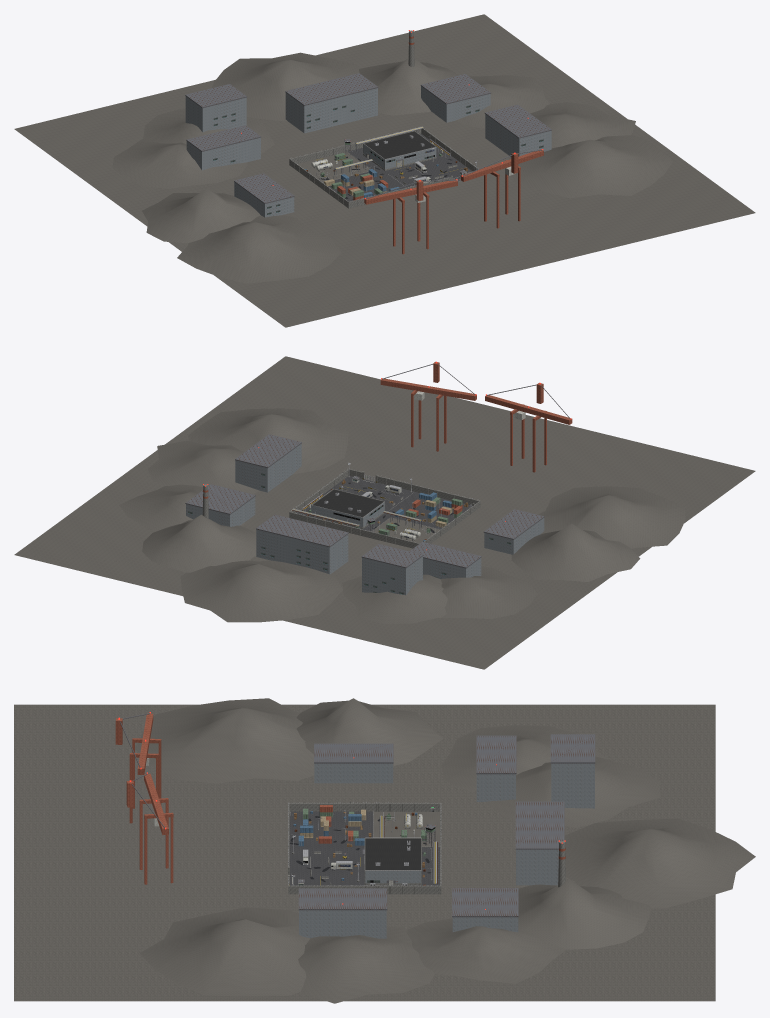
Rendered from depot.glb.
3 views of the same model, one above another, from view 1: azimuth 30°, elevation 25°; view 2: azimuth 150°, elevation 25°; view 3: azimuth 270°, elevation 25° (orthographic). The views are drawn at different scales.
Visible parts, largest first — view 1: SM_Ground_Ground_Outer_S_01, SM_Ground_Ground_Outer_N_01, SM_Far_Hill_3_02, SM_Far_Hill_3_03, SM_Far_Hill_3_01, SM_Far_Hill_2_02, SM_Far_FarBlock_1_01, SM_Far_Hill_1_02, SM_Far_Hill_2_01, SM_Ground_Ground_Outer_W_01, SM_Far_Hill_0_01, SM_Ground_Ground_Outer_E_01 (+13 smaller); view 2: SM_Ground_Ground_Outer_S_01, SM_Ground_Ground_Outer_N_01, SM_Far_Hill_3_01, SM_Far_Hill_3_02, SM_Far_Hill_3_03, SM_Far_Hill_2_02, SM_Far_Hill_2_01, SM_Far_FarBlock_1_01, SM_Far_Hill_0_01, SM_Far_Hill_1_02, SM_Far_Hill_0_02, SM_Ground_Ground_Outer_W_01 (+13 smaller); view 3: SM_Ground_Ground_Outer_S_01, SM_Ground_Ground_Outer_N_01, SM_Far_Hill_3_01, SM_Far_Hill_3_02, SM_Far_Hill_3_03, SM_Far_Hill_0_01, SM_Far_Hill_2_01, SM_Far_Hill_1_01, SM_Far_Hill_2_02, SM_Ground_Ground_Outer_W_01, SM_Far_Hill_0_02, SM_Ground_Ground_Asphalt_S_01 (+14 smaller).
Boxes of the visible parts, x1,y1,x2,y2 form: SM_Ground_Ground_Outer_S_01: [179, 135, 755, 327]; SM_Ground_Ground_Outer_N_01: [14, 14, 590, 206]; SM_Far_Hill_3_02: [177, 215, 341, 283]; SM_Far_Hill_3_03: [509, 135, 673, 198]; SM_Far_Hill_3_01: [212, 52, 361, 120]; SM_Far_Hill_2_02: [142, 188, 260, 243]; SM_Far_FarBlock_1_01: [285, 73, 378, 133]; SM_Far_Hill_1_02: [112, 139, 247, 188]; SM_Far_Hill_2_01: [359, 58, 458, 115]; SM_Ground_Ground_Outer_W_01: [121, 165, 347, 249]; SM_Far_Hill_0_01: [530, 102, 635, 148]; SM_Ground_Ground_Outer_E_01: [428, 92, 648, 174]; SM_Ground_Ground_Outer_S_01: [179, 356, 755, 548]; SM_Ground_Ground_Outer_N_01: [14, 477, 590, 669]; SM_Far_Hill_3_01: [180, 560, 342, 622]; SM_Far_Hill_3_02: [538, 486, 685, 548]; SM_Far_Hill_3_03: [188, 408, 348, 474]; SM_Far_Hill_2_02: [511, 524, 640, 581]; SM_Far_Hill_2_01: [142, 514, 256, 572]; SM_Far_FarBlock_1_01: [256, 514, 348, 574]; SM_Far_Hill_0_01: [148, 441, 259, 494]; SM_Far_Hill_1_02: [440, 566, 537, 618]; SM_Far_Hill_0_02: [342, 574, 447, 623]; SM_Ground_Ground_Outer_W_01: [431, 507, 648, 591]; SM_Ground_Ground_Outer_S_01: [14, 704, 289, 1001]; SM_Ground_Ground_Outer_N_01: [440, 704, 715, 1001]; SM_Far_Hill_3_01: [564, 818, 755, 908]; SM_Far_Hill_3_02: [135, 698, 314, 783]; SM_Far_Hill_3_03: [139, 907, 309, 996]; SM_Far_Hill_0_01: [298, 926, 434, 1003]; SM_Far_Hill_2_01: [518, 879, 651, 949]; SM_Far_Hill_1_01: [407, 918, 566, 983]; SM_Far_Hill_2_02: [296, 698, 442, 765]; SM_Ground_Ground_Outer_W_01: [289, 704, 440, 802]; SM_Far_Hill_0_02: [474, 756, 660, 827]; SM_Ground_Ground_Asphalt_S_01: [289, 811, 372, 885].
Size of the model in its own units: 330 by 48.77 by 338.
24 materials, 24 textured.
